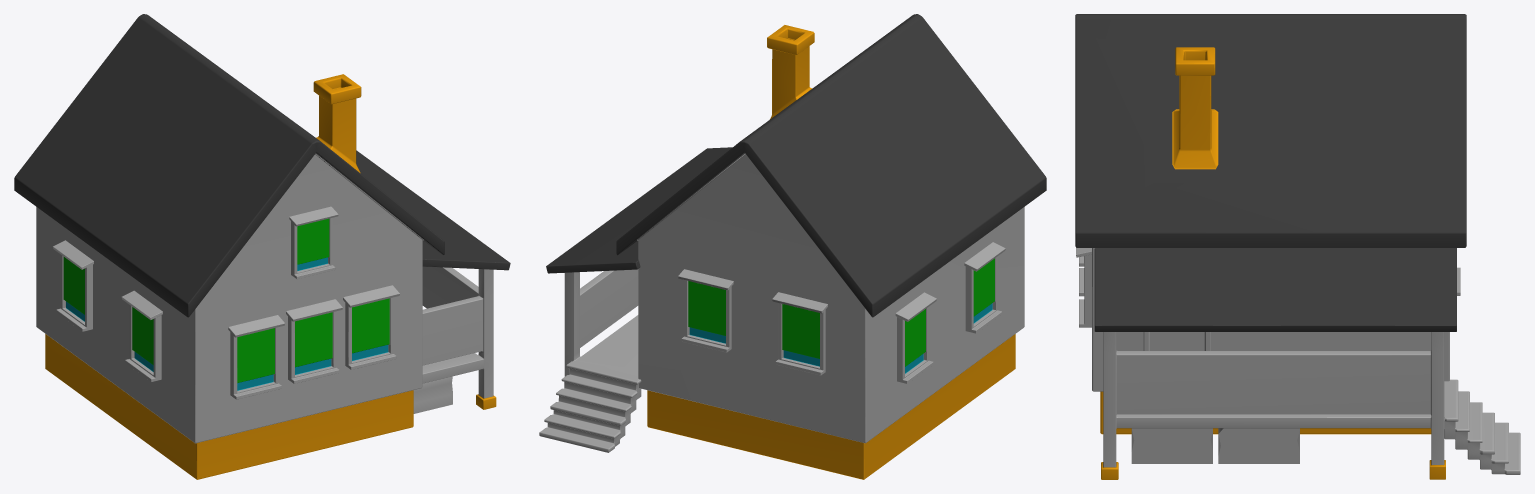
Rendered from M_Forest_Hut_3.fbx.
3 renders of one model, left to right at view 1: azimuth 30°, elevation 25°; view 2: azimuth 150°, elevation 25°; view 3: azimuth 270°, elevation 25°, orthographic. The views are drawn at different scales.
Visible parts, largest first — view 1: House; view 2: House; view 3: House.
Part boxes in pixels (x1,y1,x2,y2): House: (14,14,510,479); House: (539,14,1046,479); House: (1075,14,1520,479).
Size of the model in its own units: 7.12 by 7.38 by 6.61.
